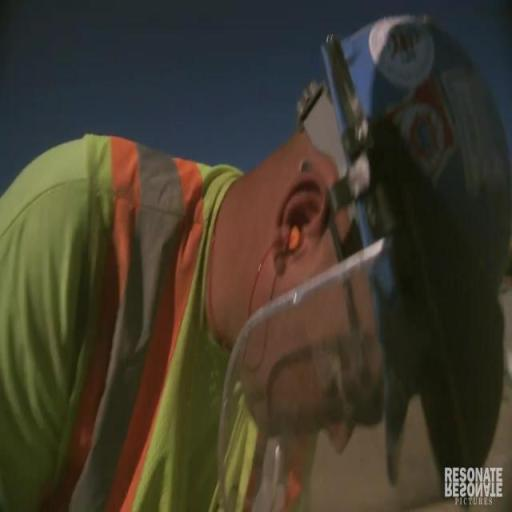vest: (0, 132, 224, 504)
